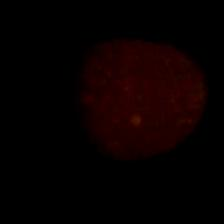fertile: (44, 34, 208, 166)
